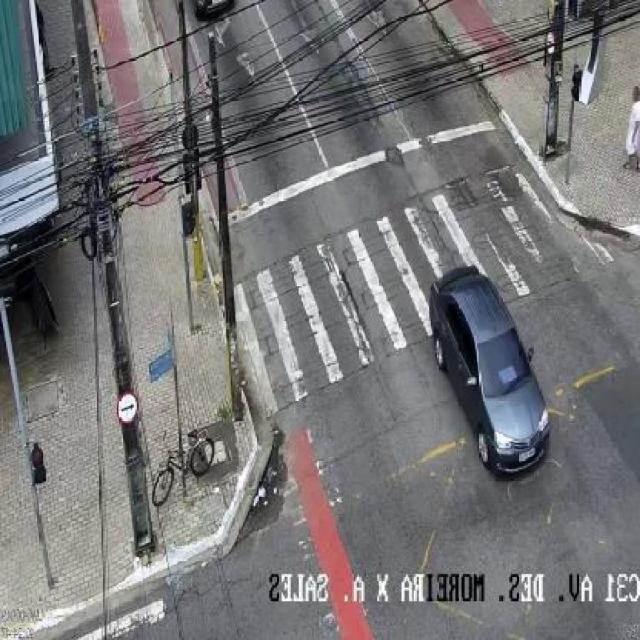Car: (429, 255, 559, 478)
